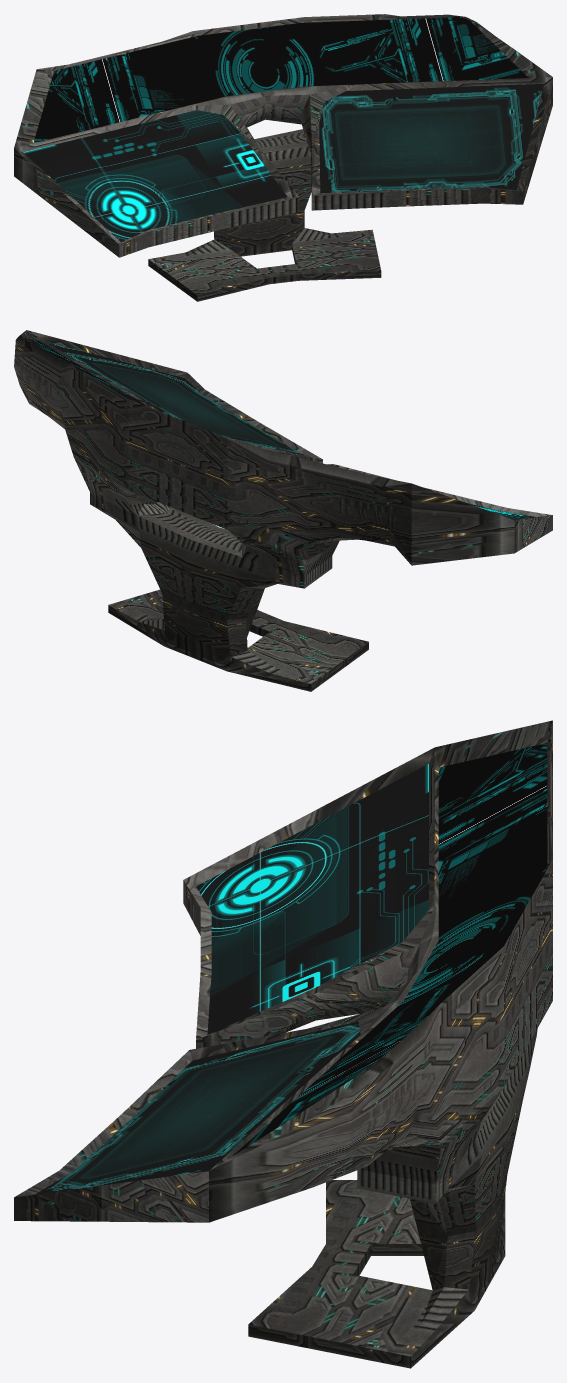
3 renders of one model, top to bottom at view 1: azimuth 30°, elevation 25°; view 2: azimuth 150°, elevation 25°; view 3: azimuth 270°, elevation 25°, orthographic. The views are drawn at different scales.
Visible parts, largest first — view 1: MaterialFBXASC032FBXASC0352142150880, MaterialFBXASC032FBXASC0352142171094, MaterialFBXASC032FBXASC0352142172430, MaterialFBXASC032FBXASC0352142171025; view 2: MaterialFBXASC032FBXASC0352142150880, MaterialFBXASC032FBXASC0352142172430, MaterialFBXASC032FBXASC0352142171094; view 3: MaterialFBXASC032FBXASC0352142150880, MaterialFBXASC032FBXASC0352142171025, MaterialFBXASC032FBXASC0352142171094, MaterialFBXASC032FBXASC0352142172430.
Boxes of the visible parts, x1,y1,x2,y2 form: MaterialFBXASC032FBXASC0352142150880: (14,14,552,301); MaterialFBXASC032FBXASC0352142171094: (33,17,528,143); MaterialFBXASC032FBXASC0352142172430: (319,84,543,193); MaterialFBXASC032FBXASC0352142171025: (23,110,287,241); MaterialFBXASC032FBXASC0352142150880: (14,330,552,691); MaterialFBXASC032FBXASC0352142172430: (46,341,304,455); MaterialFBXASC032FBXASC0352142171094: (27,338,146,405); MaterialFBXASC032FBXASC0352142150880: (14,720,552,1368); MaterialFBXASC032FBXASC0352142171025: (196,764,428,1034); MaterialFBXASC032FBXASC0352142171094: (233,743,547,1155); MaterialFBXASC032FBXASC0352142172430: (35,1021,360,1194).
Bounding box in the file's own units: 32.13 × 13.58 × 17.27.
4 materials, 4 textured.
